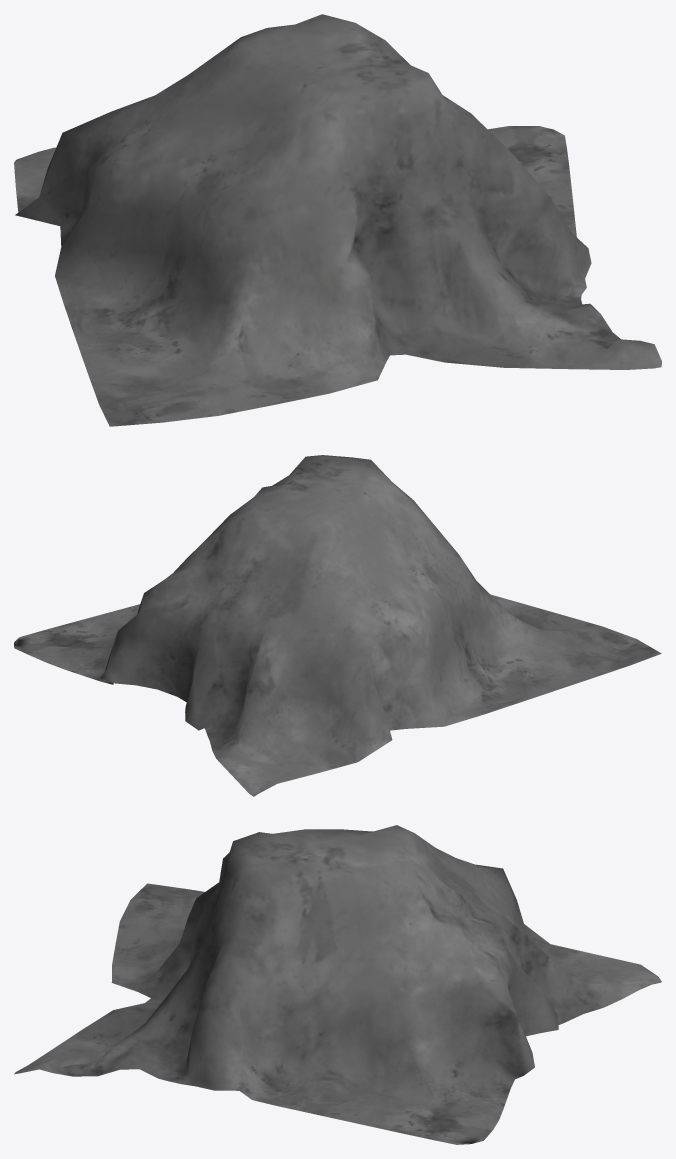
File: Machinery covered 1.fbx
3 views of the same model, one above another, from view 1: azimuth 30°, elevation 25°; view 2: azimuth 150°, elevation 25°; view 3: azimuth 270°, elevation 25° (orthographic). The views are drawn at different scales.
Parts seen in each view (by area): view 1: Plane.003; view 2: Plane.003; view 3: Plane.003.
Boxes of the visible parts, <box> form: Plane.003: <box>14,14,661,426</box>; Plane.003: <box>14,455,661,796</box>; Plane.003: <box>14,825,661,1144</box>.
Size of the model in its own units: 735 by 246 by 770.
